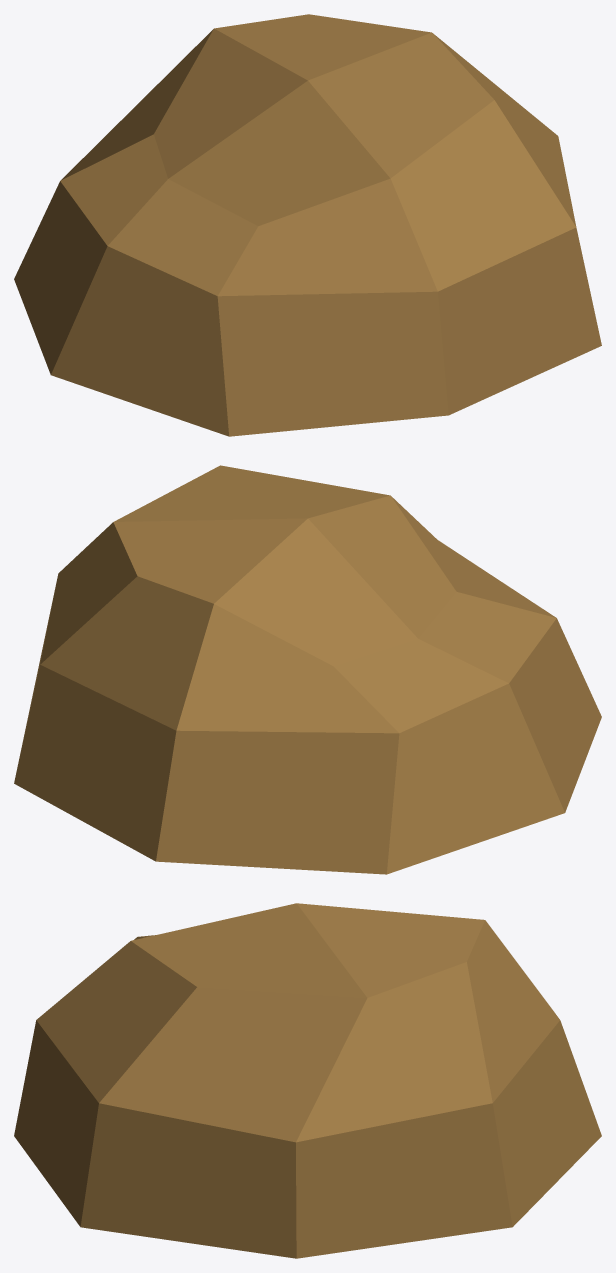
The model's file is MudRocks005.fbx.
3 renders of one model, top to bottom at view 1: azimuth 30°, elevation 25°; view 2: azimuth 150°, elevation 25°; view 3: azimuth 270°, elevation 25°, orthographic.
Visible parts, largest first — view 1: Cube.019; view 2: Cube.019; view 3: Cube.019.
Part boxes in pixels (x1,y1,x2,y2): Cube.019: (14,14,601,436); Cube.019: (14,465,601,874); Cube.019: (14,903,601,1258).
Bounding box in the file's own units: 272 × 119 × 272.
